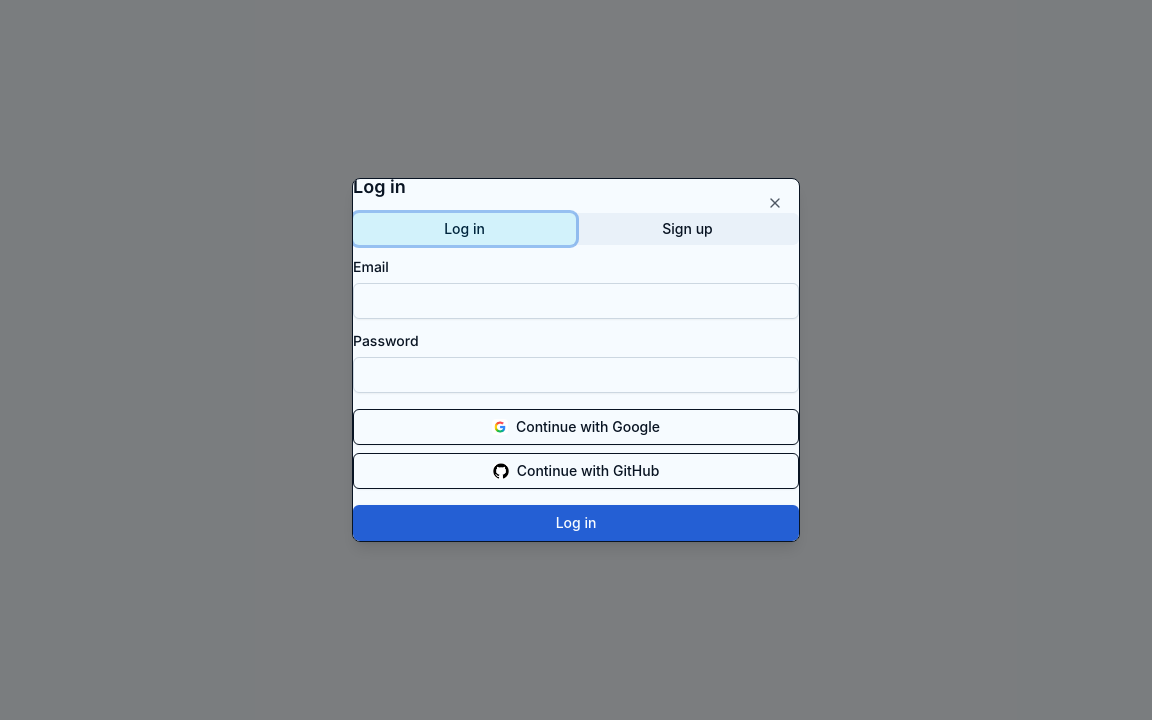
Scenario: LoginModal › updates password strength feedback
The width and height of the screenshot is (1152, 720).
Click the button "Sign up" at (688, 229), box [576,213,799,245]
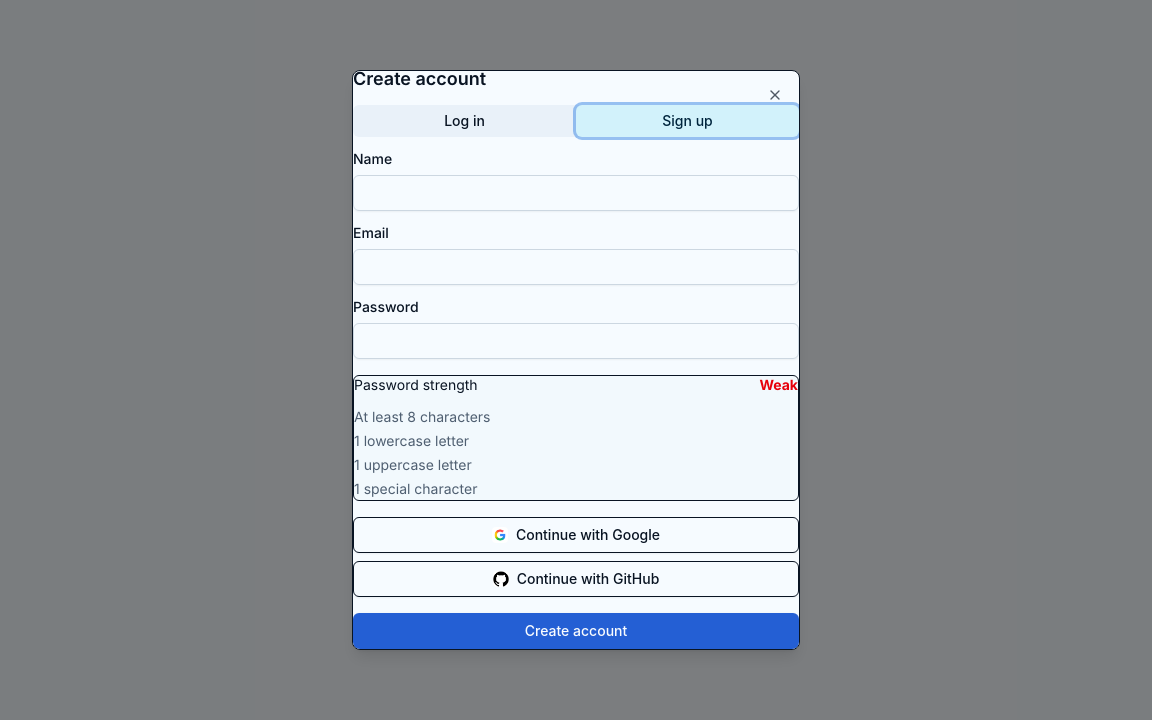
Type "Aa!12345" into the password field labelled "Password" at (576, 341), box [353,323,799,359]
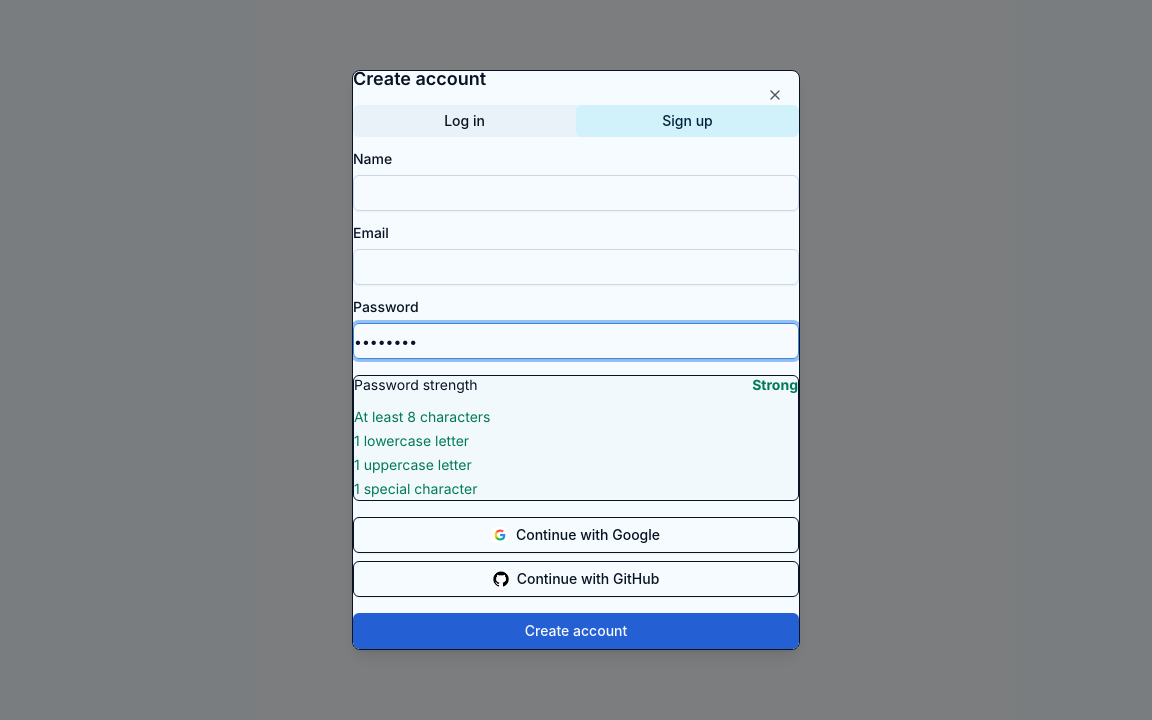
Expected: the text "strong" is shown, [752,376,798,396]
